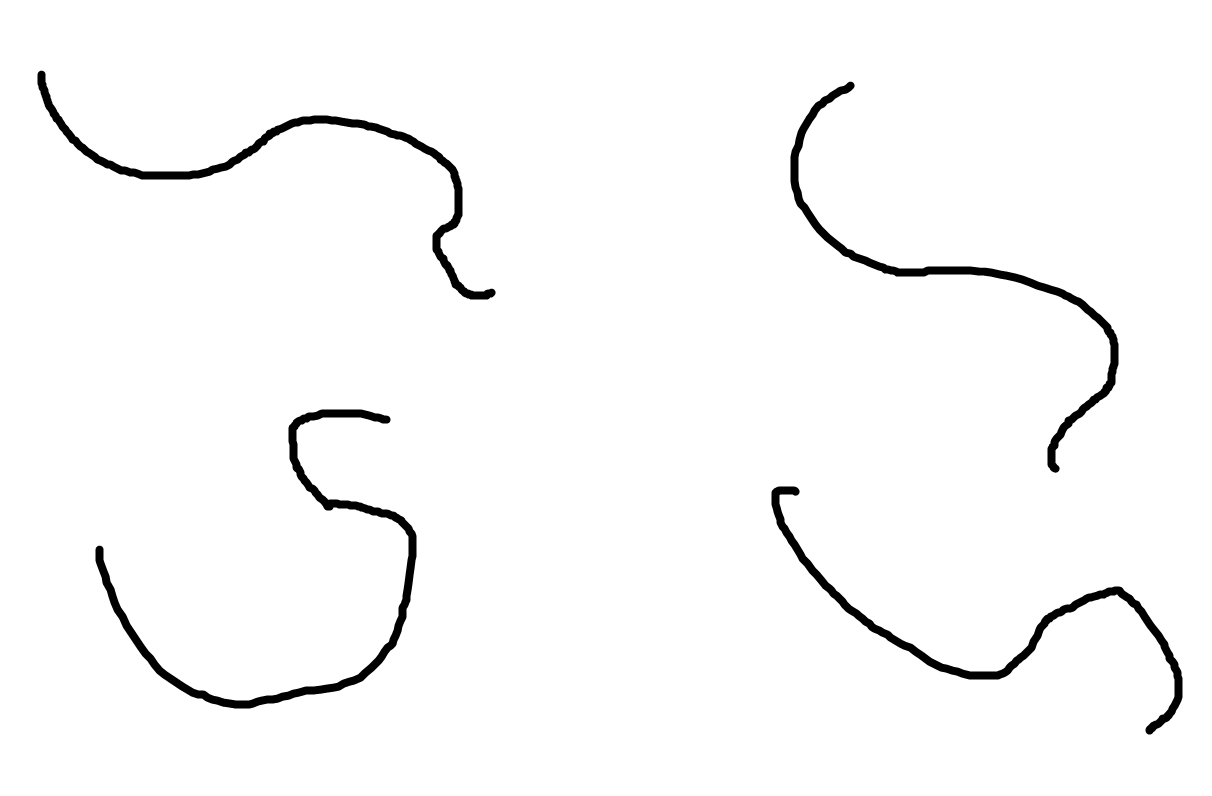tube: (775, 65, 1137, 471), (24, 55, 504, 324), (80, 392, 446, 719), (754, 475, 1195, 740)
